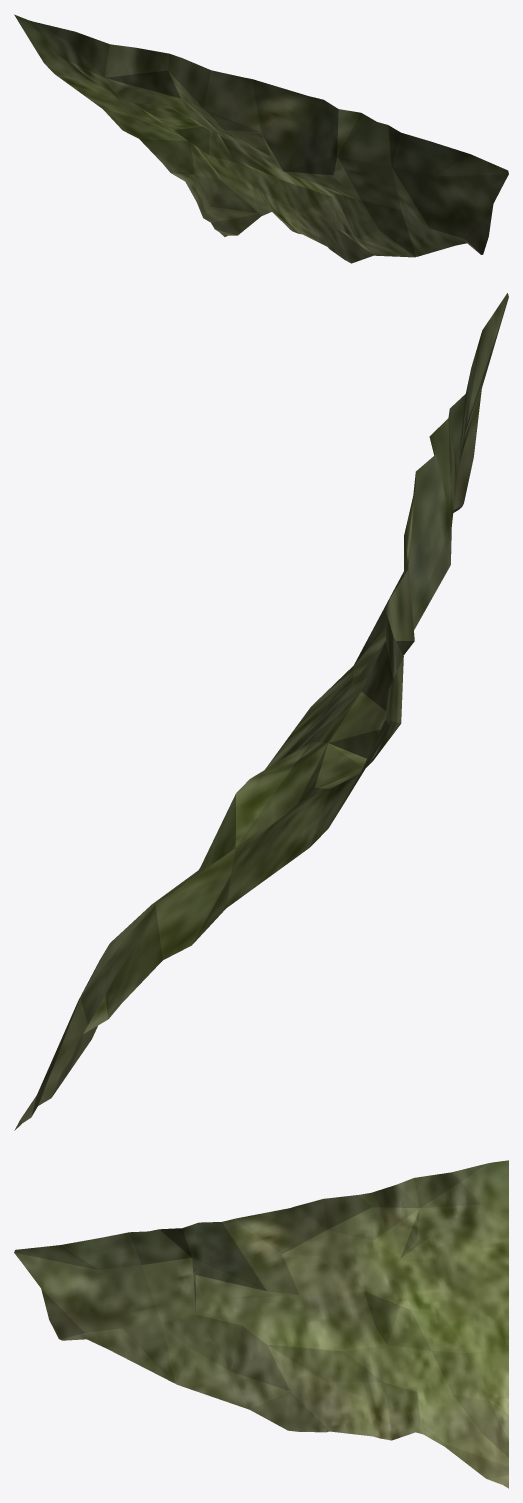
3 views of the same model, one above another, from view 1: azimuth 30°, elevation 25°; view 2: azimuth 150°, elevation 25°; view 3: azimuth 270°, elevation 25° (orthographic). The views are drawn at different scales.
Size of the model in its own units: 0.6988 by 0.8692 by 1.63.
Materials: 1 (1 with a texture image).
